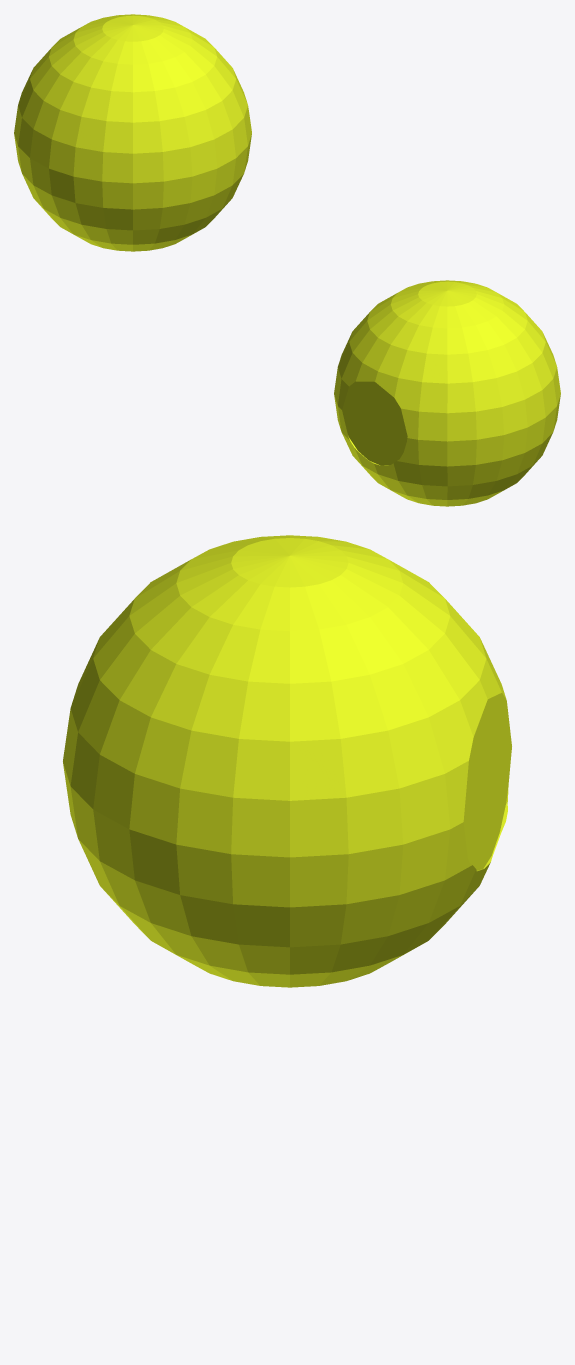
Rendered from inside.glb.
3 views of the same model, one above another, from view 1: azimuth 30°, elevation 25°; view 2: azimuth 150°, elevation 25°; view 3: azimuth 270°, elevation 25° (orthographic). The views are drawn at different scales.
Visible parts, largest first — view 1: Sphere002; view 2: Sphere002; view 3: Sphere002.
Part boxes in pixels (bbox=[...]): Sphere002: bbox=[14, 14, 251, 251]; Sphere002: bbox=[334, 280, 560, 506]; Sphere002: bbox=[63, 535, 511, 987].
Size of the model in its own units: 1177919 by 416748 by 441610.
